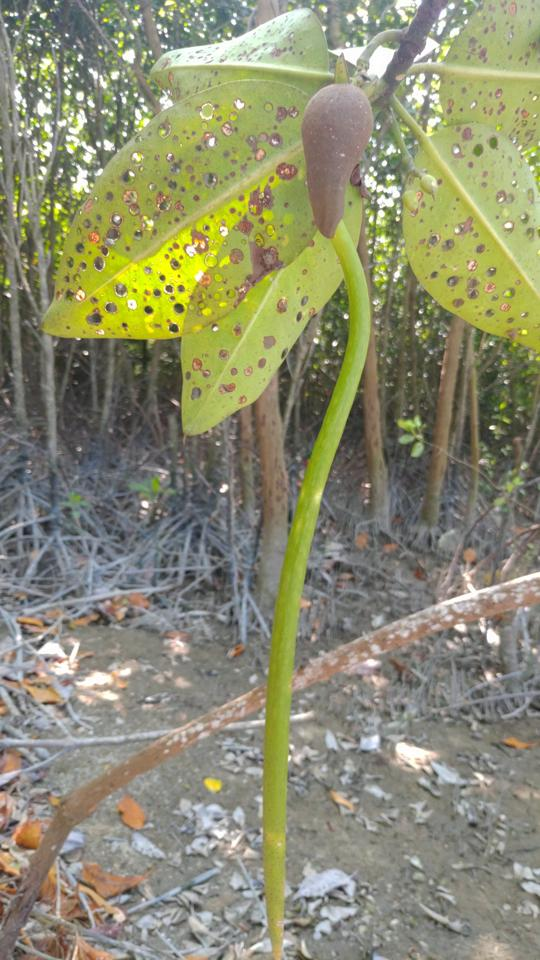mentah: (249, 63, 386, 953)
